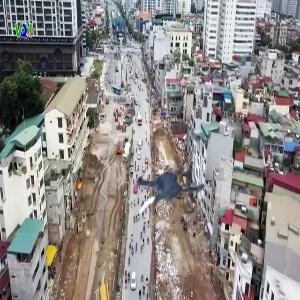drone: (118, 145, 211, 238)
